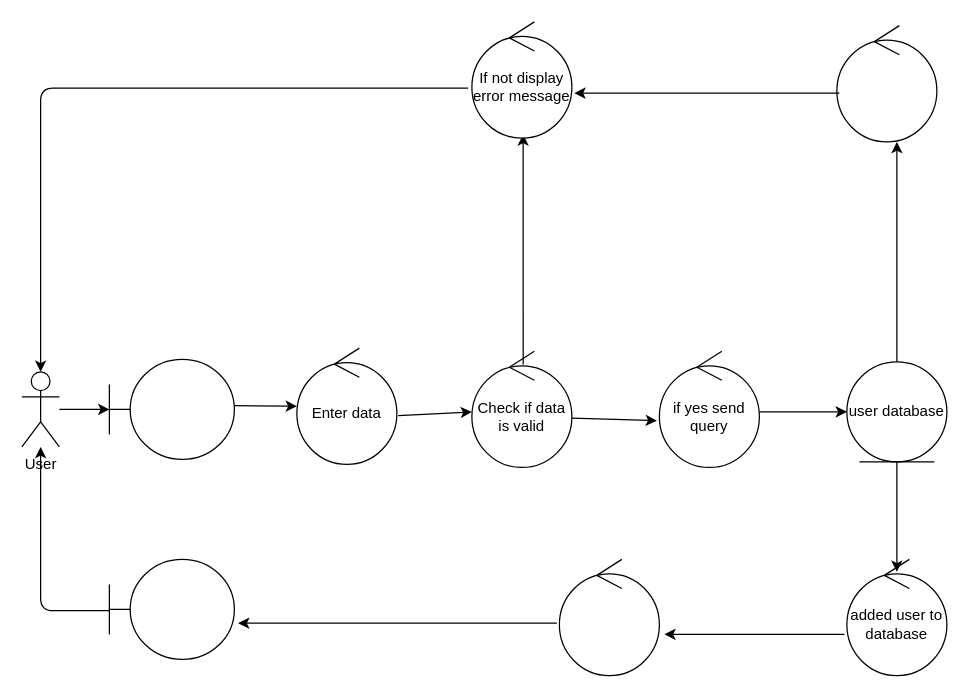
The diagram is 969 pixels wide and 698 high, and some of its shapes have lost their labels. The shapes that lost their labels are listed below. From the top down, each one's centre as x and y in pixels, then its label:
At [886,83]: "if there is already an user with the details provided".
At [171,408]: "Registration Screen".
At [171,608]: "main screen".
At [608,617]: "prompt user to main screen".
